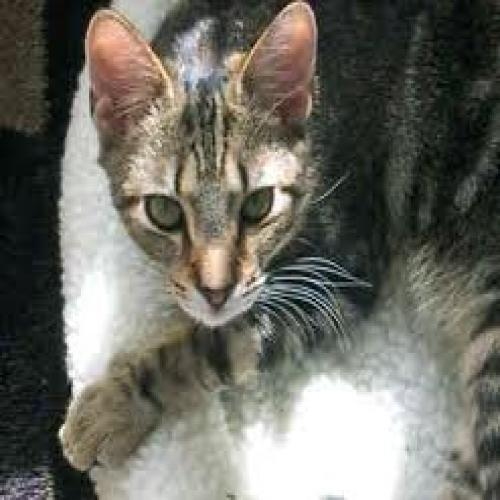bengal: (75, 1, 348, 337)
